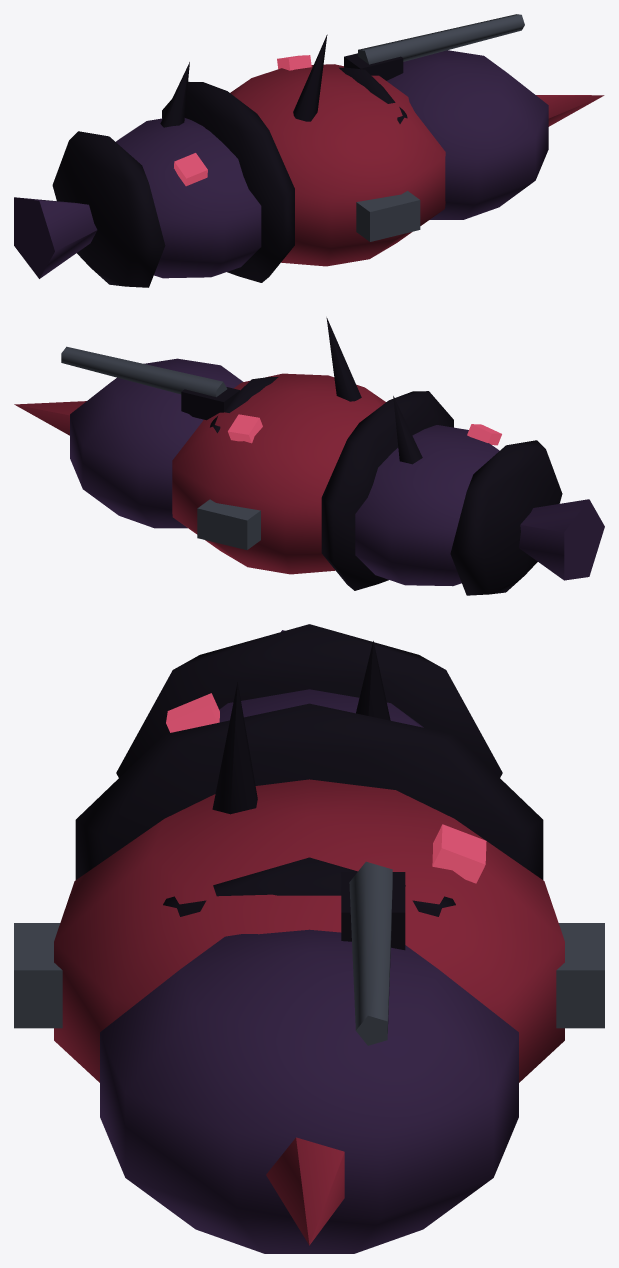
File: treble-directorate.glb
3 renders of one model, top to bottom at view 1: azimuth 30°, elevation 25°; view 2: azimuth 150°, elevation 25°; view 3: azimuth 270°, elevation 25°, orthographic. The views are drawn at different scales.
Parts seen in each view (by area): view 1: tergite_1, tergite_2, tergite_0, tergite_ridge_0, tergite_ridge_1, telson, spine_gun, clasp_lug_s, dorsal_spine_1, rostrum, spine_gun_mount, dorsal_spine_0 (+3 smaller); view 2: tergite_1, tergite_2, tergite_0, tergite_ridge_0, tergite_ridge_1, telson, spine_gun, clasp_lug_p, spine_gun_mount, dorsal_spine_1, rostrum, dorsal_spine_0 (+3 smaller); view 3: tergite_2, tergite_1, tergite_ridge_1, tergite_ridge_0, spine_gun, rostrum, clasp_lug_s, clasp_lug_p, tergite_ridge_2, dorsal_spine_1, tergite_0, photophore_p0 (+3 smaller).
Part boxes in pixels (x1=…): tergite_1: x1=230, y1=64, x2=445, y2=266; tergite_2: x1=387, y1=50, x2=548, y2=219; tergite_0: x1=116, y1=118, x2=261, y2=278; tergite_ridge_0: x1=52, y1=131, x2=165, y2=287; tergite_ridge_1: x1=162, y1=81, x2=294, y2=282; telson: x1=14, y1=197, x2=97, y2=278; spine_gun: x1=358, y1=14, x2=524, y2=64; clasp_lug_s: x1=356, y1=191, x2=420, y2=241; dorsal_spine_1: x1=293, y1=34, x2=327, y2=121; rostrum: x1=536, y1=95, x2=604, y2=126; spine_gun_mount: x1=344, y1=53, x2=403, y2=80; dorsal_spine_0: x1=160, y1=62, x2=189, y2=127; tergite_1: x1=172, y1=373, x2=385, y2=574; tergite_2: x1=70, y1=358, x2=242, y2=528; tergite_0: x1=355, y1=425, x2=499, y2=586; tergite_ridge_0: x1=450, y1=440, x2=562, y2=595; tergite_ridge_1: x1=321, y1=391, x2=453, y2=590; telson: x1=519, y1=499, x2=604, y2=580; spine_gun: x1=61, y1=346, x2=227, y2=397; clasp_lug_p: x1=197, y1=499, x2=260, y2=549; spine_gun_mount: x1=181, y1=387, x2=240, y2=420; dorsal_spine_1: x1=326, y1=317, x2=361, y2=401; rostrum: x1=14, y1=401, x2=86, y2=435; dorsal_spine_0: x1=393, y1=396, x2=422, y2=464; tergite_2: x1=100, y1=929, x2=518, y2=1253; tergite_1: x1=54, y1=779, x2=564, y2=1082; tergite_ridge_1: x1=75, y1=703, x2=543, y2=879; tergite_ridge_0: x1=116, y1=624, x2=502, y2=777; spine_gun: x1=349, y1=861, x2=392, y2=1045; rostrum: x1=266, y1=1137, x2=344, y2=1245; clasp_lug_s: x1=14, y1=923, x2=62, y2=1028; clasp_lug_p: x1=556, y1=923, x2=604, y2=1028; tergite_ridge_2: x1=163, y1=857, x2=455, y2=916; dorsal_spine_1: x1=212, y1=682, x2=257, y2=814; tergite_0: x1=219, y1=689, x2=423, y2=727; photophore_p0: x1=432, y1=824, x2=486, y2=883.
Bounding box in the file's own units: 16 × 6.21 × 7.4.
